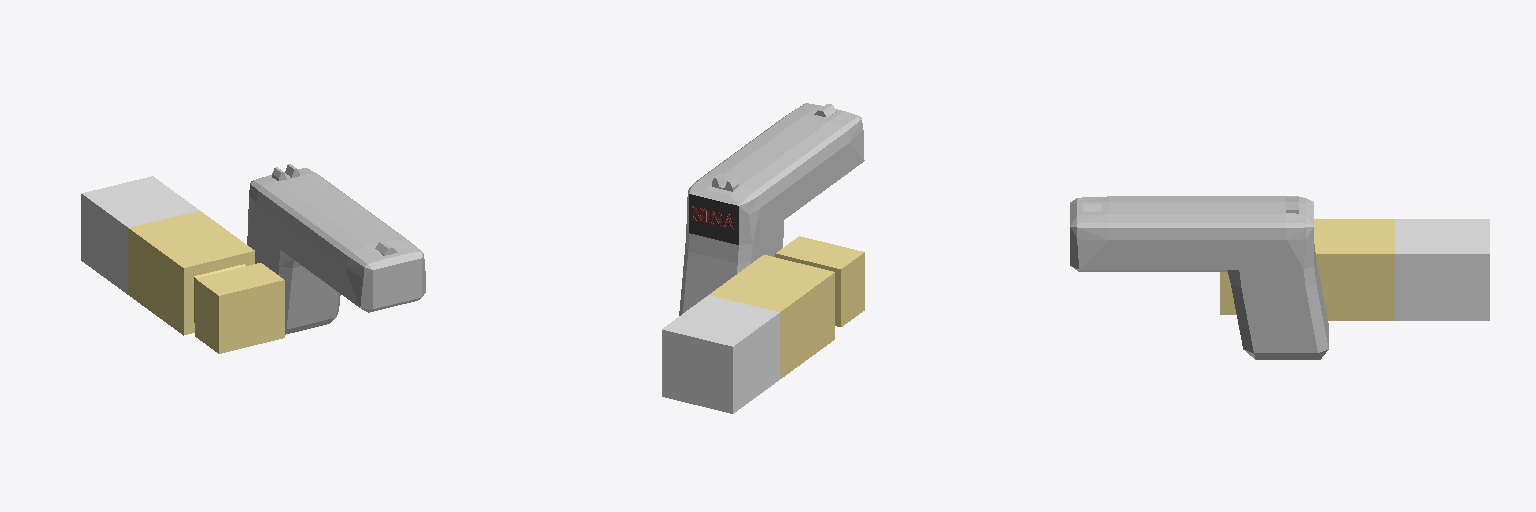
3 views of the same model, side by side, from view 1: azimuth 30°, elevation 25°; view 2: azimuth 150°, elevation 25°; view 3: azimuth 270°, elevation 25° (orthographic).
Parts seen in each view (by area): view 1: cube5, Pistol; view 2: cube5, Pistol; view 3: Pistol, cube5.
Part boxes in pixels (bbox=[...]): cube5: bbox=[81, 176, 284, 353]; Pistol: bbox=[247, 164, 425, 334]; cube5: bbox=[662, 236, 864, 413]; Pistol: bbox=[679, 103, 864, 315]; Pistol: bbox=[1070, 196, 1328, 359]; cube5: bbox=[1220, 219, 1489, 320].
Bounding box in the file's own units: 15.63 × 15.87 × 40.61.
4 materials, 3 textured.